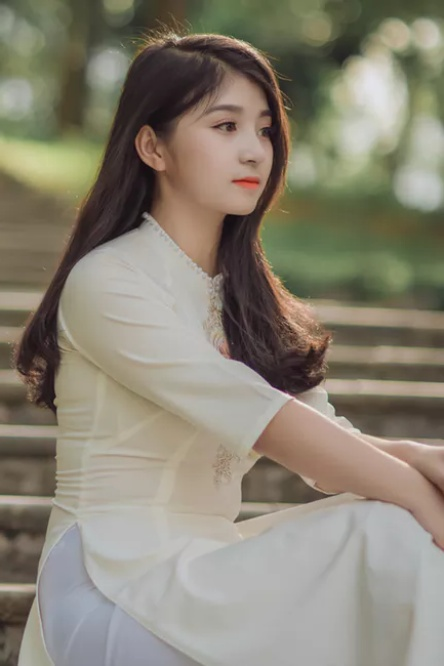face: (179, 72, 277, 217)
